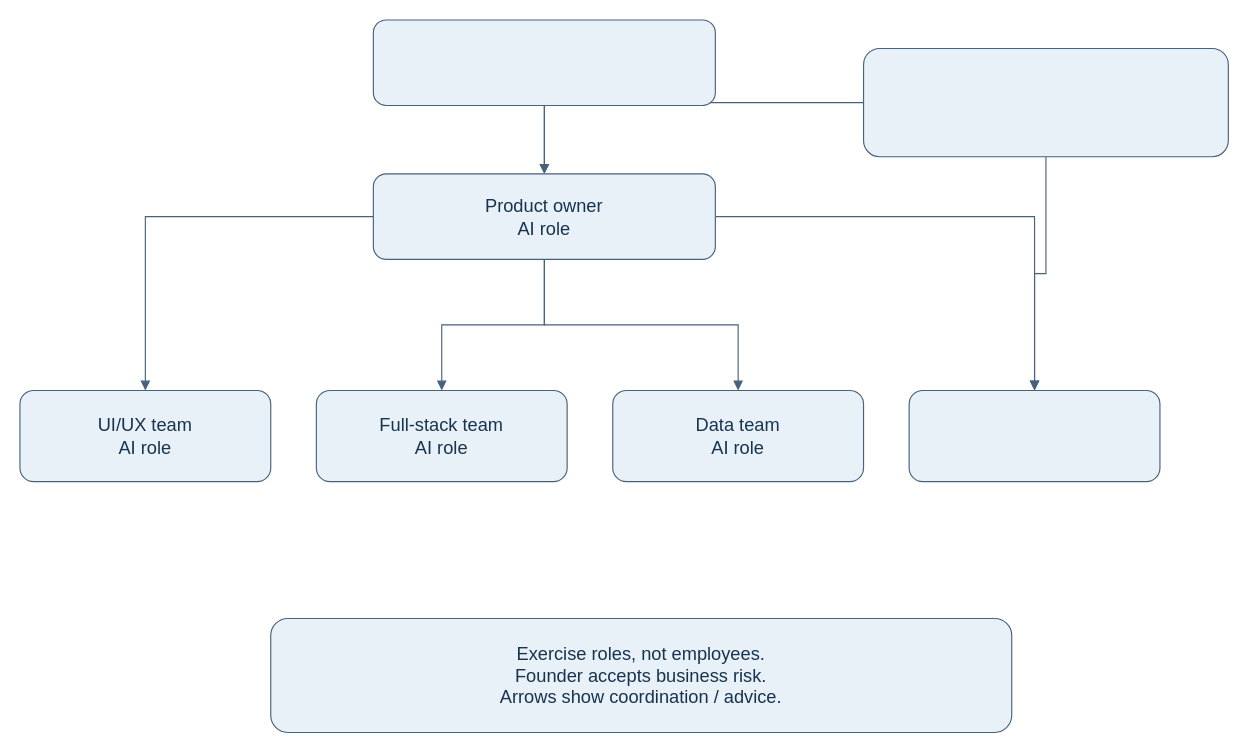
Image size: 1248x752. Some labels were removed from this diagram. The shapes that lost their labels are listed below. From the top down, each one's centre as x and y in pixels, then its label:
point (543, 62): Founder / company owner User
point (1045, 102): Only security engineer User - advises every team
point (1034, 435): QA team AI role
